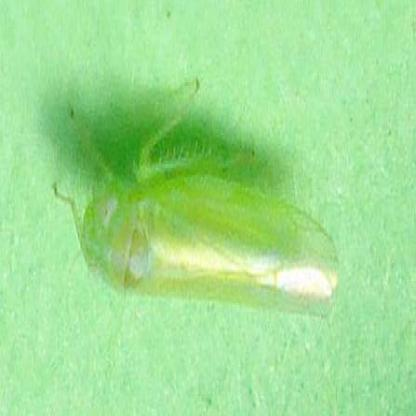green-leafhopper: (71, 140, 338, 310)
